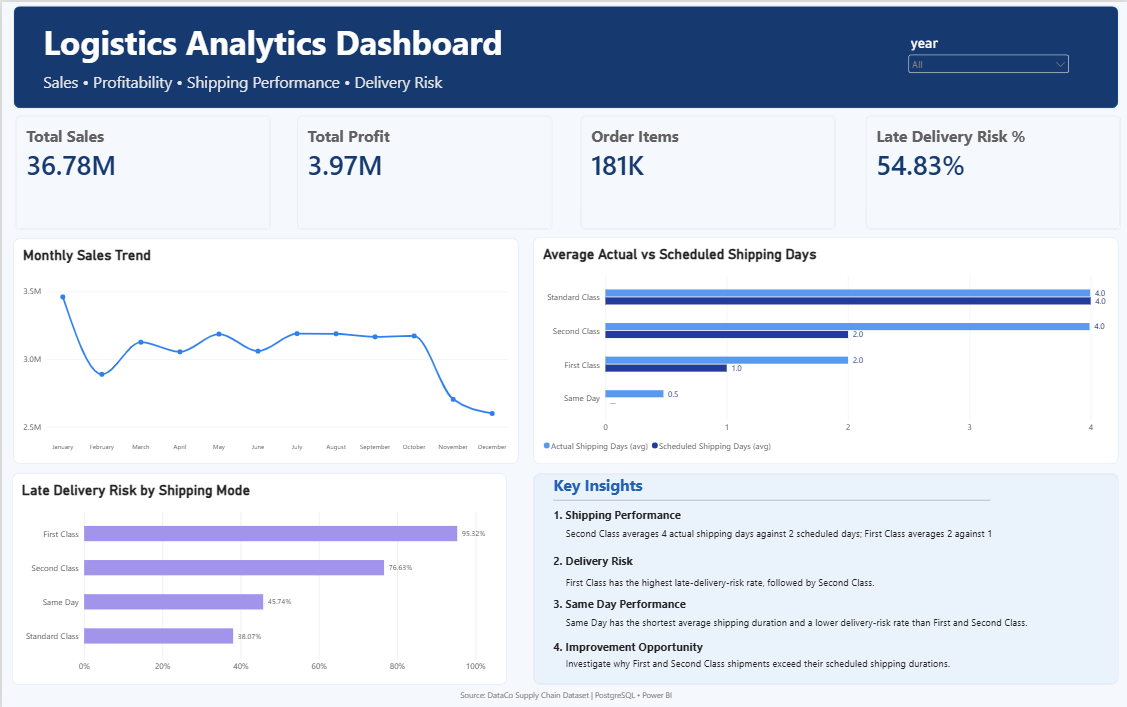

This screenshot's page, from the dashboard's own definition file:
{"tool":"powerbi","page":{"name":"Page 1","canvas":[1920,1205],"ordinal":0},"visuals":[{"type":"cardVisual","fields":{"Data":["public fact_order_items.Total Sales"]},"box":[22.8,194,434,194],"z":0},{"type":"cardVisual","fields":{"Data":["public fact_order_items.Total Profit"]},"box":[501.2,194,434,194],"z":1000},{"type":"lineChart","title":"Monthly Sales Trend","fields":{"Category":["public dim_date.month_name"],"Y":["public fact_order_items.Total Sales"]},"box":[20,402,860,384],"z":2000},{"type":"clusteredBarChart","title":"Average Actual vs Scheduled Shipping Days","fields":{"Category":["public fact_order_items.shipping_mode"],"Y":["Avg(public fact_order_items.actual_shipping_days)","Avg(public fact_order_items.scheduled_shipping_days)"]},"box":[904,400,996,386],"z":3000},{"type":"clusteredBarChart","title":"Late Delivery Risk by Shipping Mode","fields":{"Category":["public fact_order_items.shipping_mode"],"Y":["public fact_order_items.Late Delivery Risk %"]},"box":[18,802,842,360],"z":4000},{"type":"shape","box":[18.1,6.7,1882,175.5],"z":5000},{"type":"cardVisual","fields":{"Data":["public fact_order_items.Late Delivery Risk %"]},"box":[1470.8,194,434,194],"z":6000},{"type":"cardVisual","fields":{"Data":["public fact_order_items.Order Items"]},"box":[984.8,194,434,194],"z":7000},{"type":"textbox","box":[69.5,29.4,879.5,86.9],"z":8000},{"type":"slicer","fields":{"Values":["public dim_date.year"]},"box":[1580,54.4,242,80],"z":9000},{"type":"textbox","box":[69.5,116.2,713,41.6],"z":10000},{"type":"shape","box":[904,802,996,360],"z":11000},{"type":"textbox","box":[938,803.6,658,54],"z":12000},{"type":"shape","box":[938,819.6,744,58],"z":13000},{"type":"textbox","box":[938,859.6,300,34],"z":14000},{"type":"textbox","box":[960,893.6,802,44],"z":15000},{"type":"textbox","box":[938,937.6,330,38],"z":16000},{"type":"textbox","box":[960,975.6,628,36],"z":17000},{"type":"textbox","box":[938,1011.6,300,42],"z":18000},{"type":"textbox","box":[960,1045,802.5,47.5],"z":19000},{"type":"textbox","box":[938,1085.6,336,30],"z":20000},{"type":"textbox","box":[960,1115.6,672,48],"z":21000},{"type":"textbox","box":[612.5,1150,695,55],"z":21501}]}

Visuals, with their boxes in screenshot pixels (x1, y1, x2, y2), scaled from the page's 1920x1205 canvas onto the 1127x707 screenshot:
cardVisual - public fact_order_items.Total Sales: (13,114,268,228)
cardVisual - public fact_order_items.Total Profit: (294,114,549,228)
"Monthly Sales Trend" lineChart: (12,236,517,461)
"Average Actual vs Scheduled Shipping Days" clusteredBarChart: (531,235,1115,461)
"Late Delivery Risk by Shipping Mode" clusteredBarChart: (11,471,505,682)
shape: (11,4,1115,107)
cardVisual - public fact_order_items.Late Delivery Risk %: (863,114,1118,228)
cardVisual - public fact_order_items.Order Items: (578,114,833,228)
textbox: (41,17,557,68)
slicer - public dim_date.year: (927,32,1069,79)
textbox: (41,68,459,93)
shape: (531,471,1115,682)
textbox: (551,471,937,503)
shape: (551,481,987,515)
textbox: (551,504,727,524)
textbox: (564,524,1034,550)
textbox: (551,550,744,572)
textbox: (564,572,932,594)
textbox: (551,594,727,618)
textbox: (564,613,1035,641)
textbox: (551,637,748,655)
textbox: (564,655,958,683)
textbox: (360,675,767,706)
